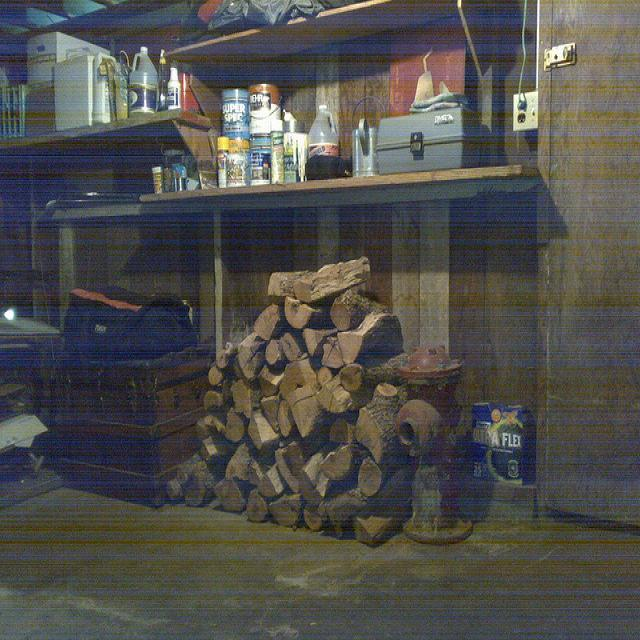fire_hydrant: (393, 340, 472, 543)
